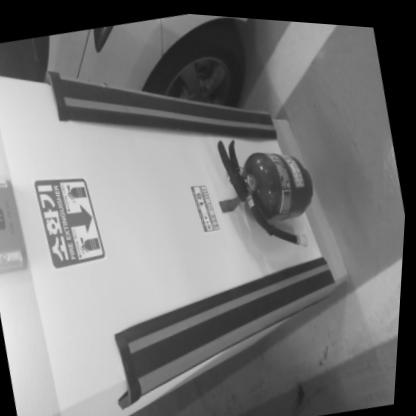FE: (210, 115, 332, 260)
